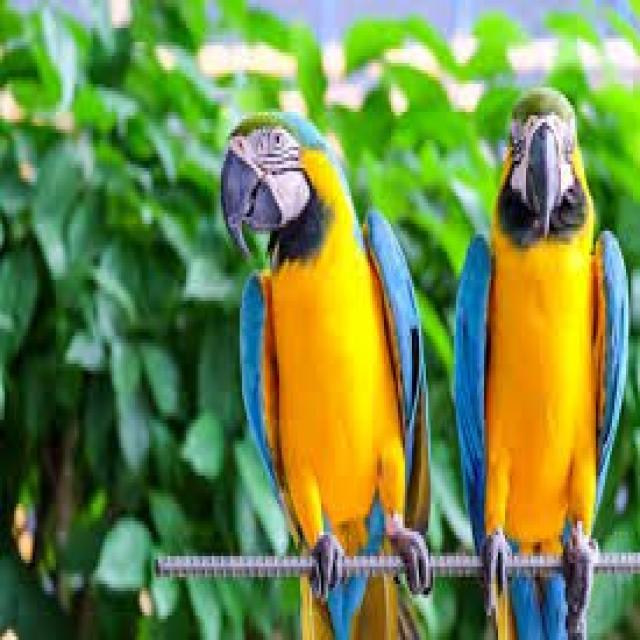Parrot: (221, 105, 436, 607), (453, 85, 630, 619)
